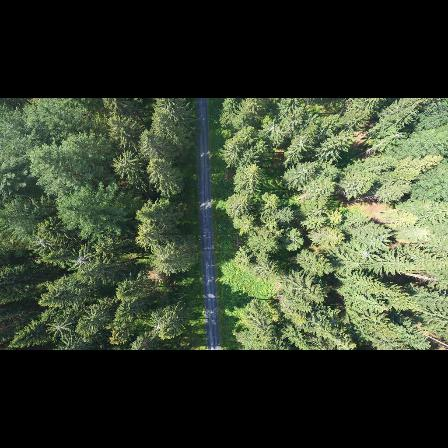Sick: (65, 246, 95, 275), (352, 240, 382, 267), (47, 314, 73, 339), (28, 231, 54, 255)
